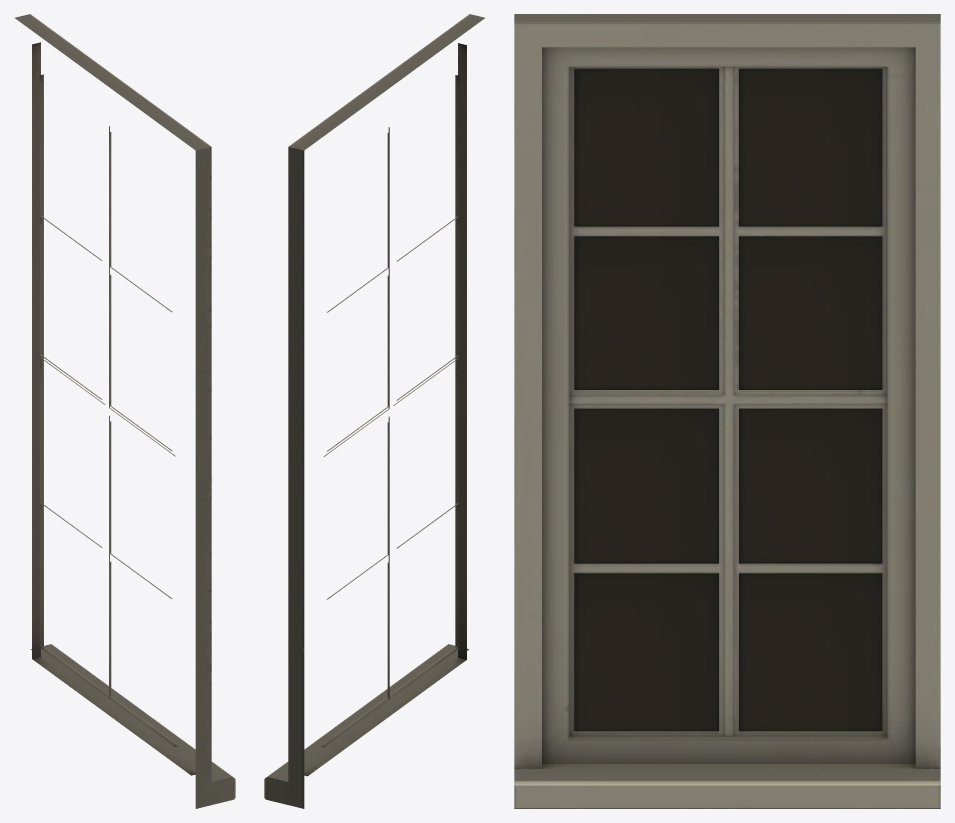
3 views of the same model, side by side, from view 1: azimuth 30°, elevation 25°; view 2: azimuth 150°, elevation 25°; view 3: azimuth 270°, elevation 25° (orthographic). The views are drawn at different scales.
Parts seen in each view (by area): view 1: body0_model0_lod0_mesh0; view 2: body0_model0_lod0_mesh0; view 3: body0_model0_lod0_mesh0.
Boxes of the visible parts, x1,y1,x2,y2 form: body0_model0_lod0_mesh0: (15,14,235,808); body0_model0_lod0_mesh0: (264,14,484,808); body0_model0_lod0_mesh0: (514,14,940,808).
Size of the model in its own units: 8.13 by 128 by 64.19.
1 material, 1 textured.
